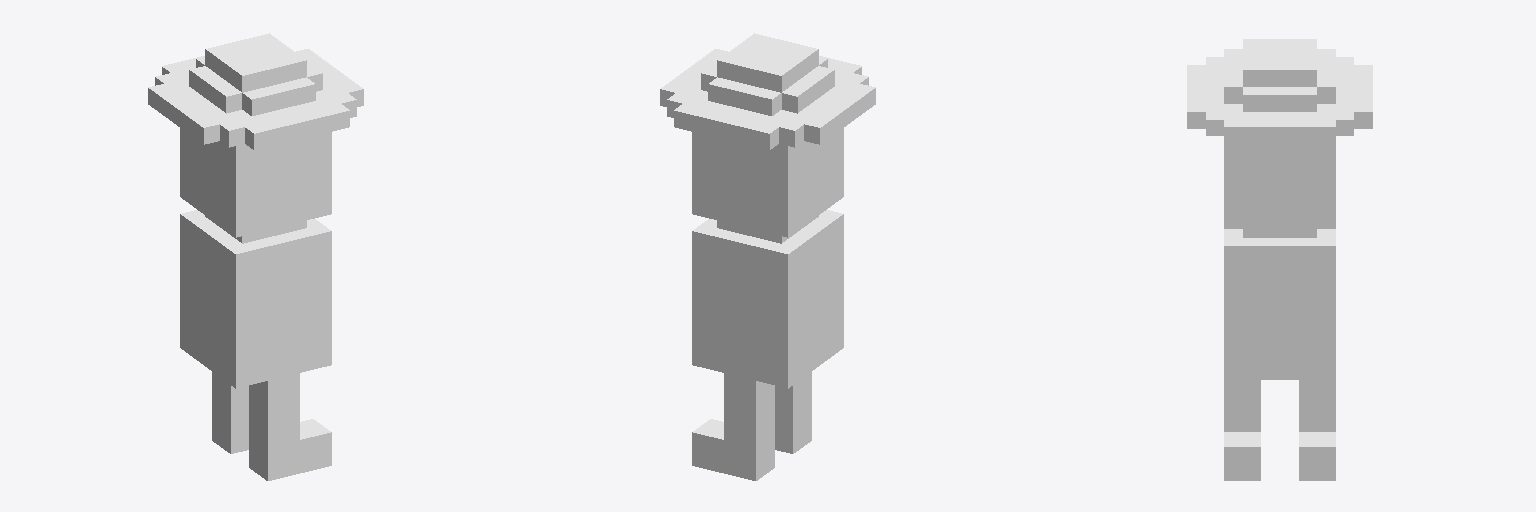
File: PlayerShooter.obj
The picture shows the model from 3 angles: view 1: azimuth 30°, elevation 25°; view 2: azimuth 150°, elevation 25°; view 3: azimuth 270°, elevation 25°; orthographic projection.
Bounding box in the file's own units: 10 × 24 × 10.